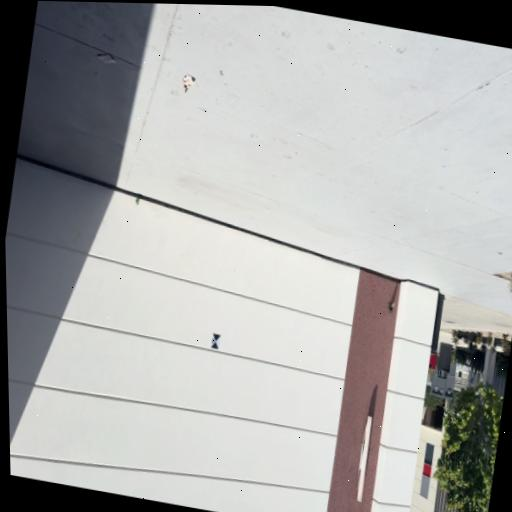target4: (210, 332, 221, 349)
